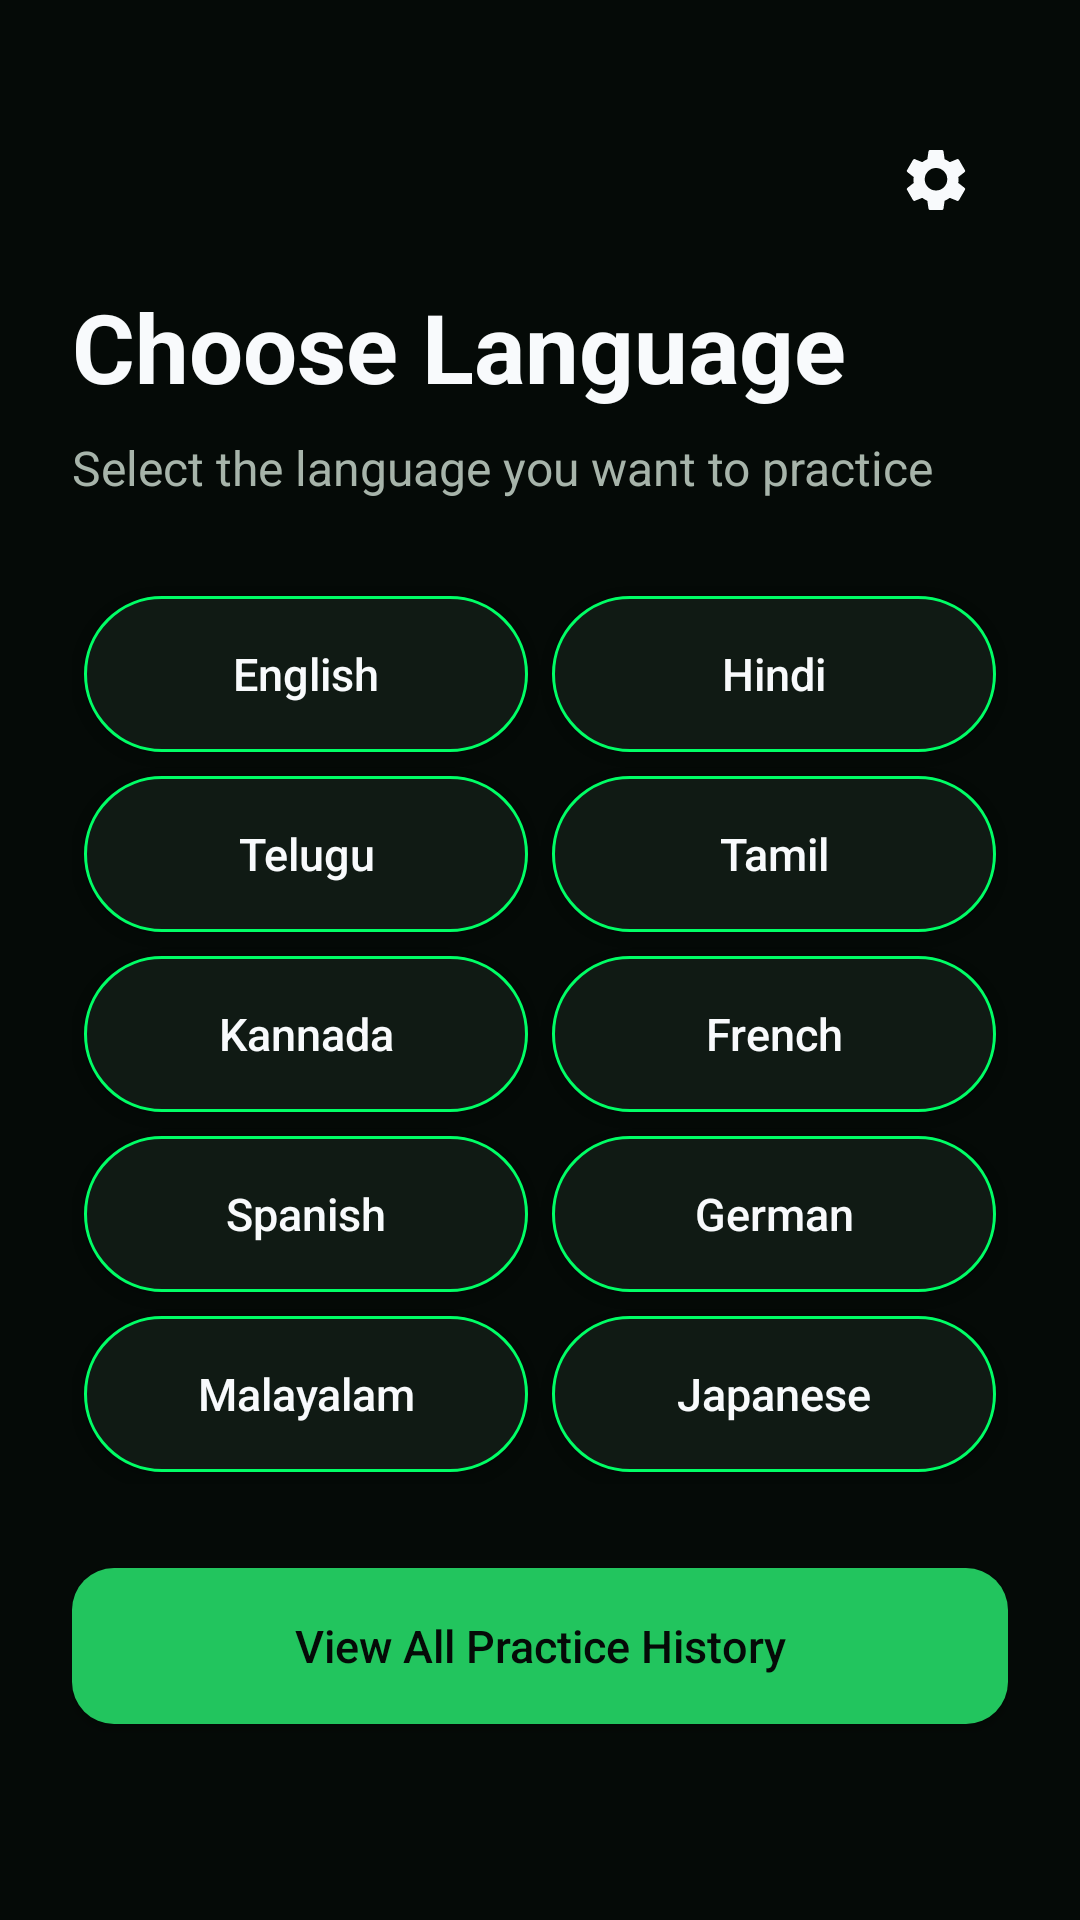

Where icons sit on this 1080*1920 app screen, as (x1, y1, x2, y2):
Settings: (906, 150, 965, 210)
